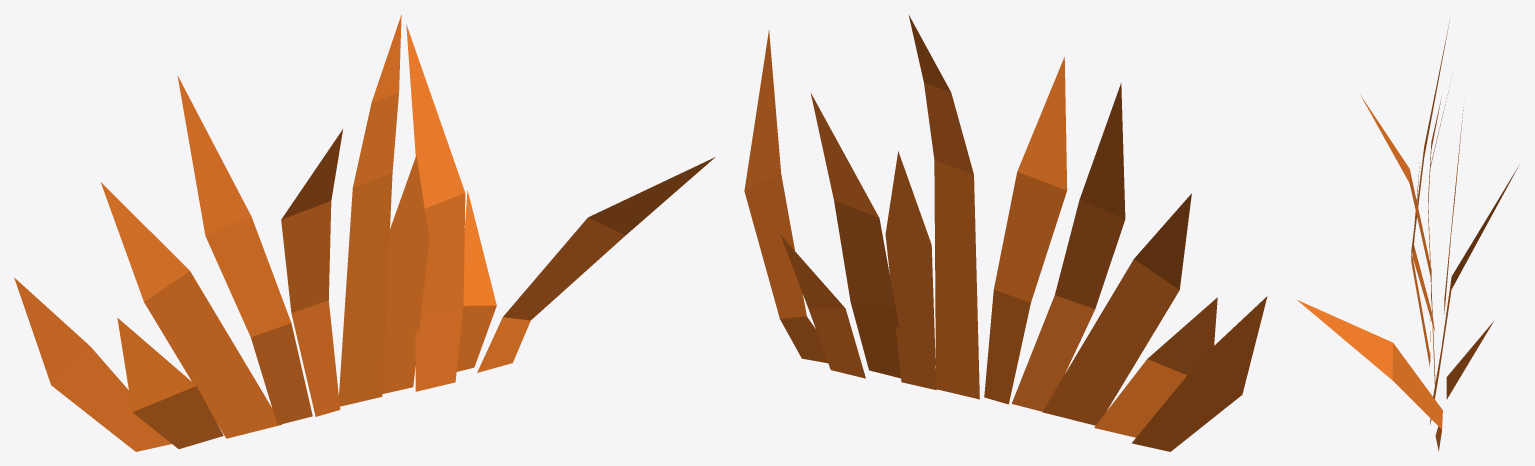
The model's file is grass_orange.glb.
3 renders of one model, left to right at view 1: azimuth 30°, elevation 25°; view 2: azimuth 150°, elevation 25°; view 3: azimuth 270°, elevation 25°, orthographic. The views are drawn at different scales.
Visible parts, largest first — view 1: grass_orange; view 2: grass_orange; view 3: grass_orange.
Boxes of the visible parts, x1,y1,x2,y2 form: grass_orange: (14,14,715,451); grass_orange: (744,15,1267,451); grass_orange: (1297,21,1518,451).
Size of the model in its own units: 1.48 by 0.8829 by 0.5718.
1 material, 1 textured.
